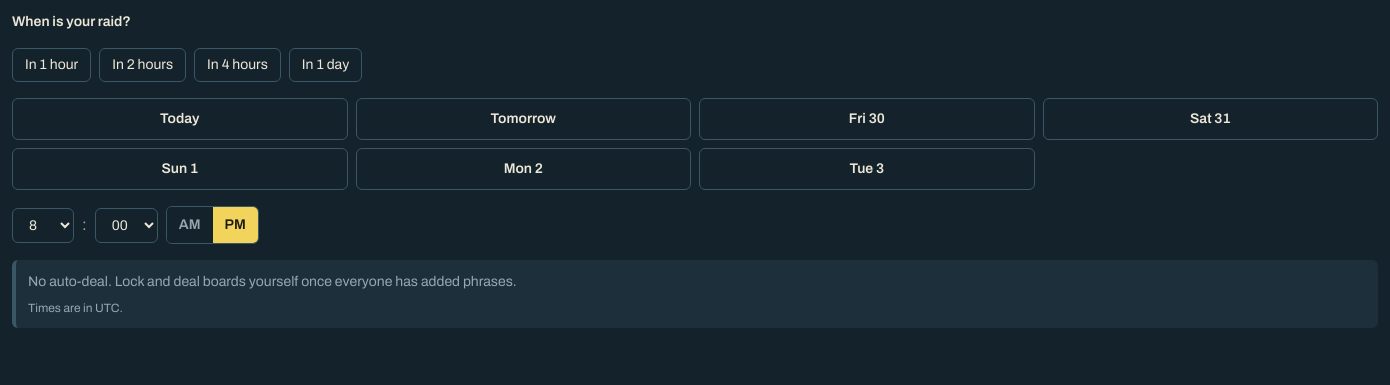
DateTimePicker › schedules a later day in the week from its chip
Step 1. Click the button "Sat 31" → (1210, 119), box [1042,98,1378,140]
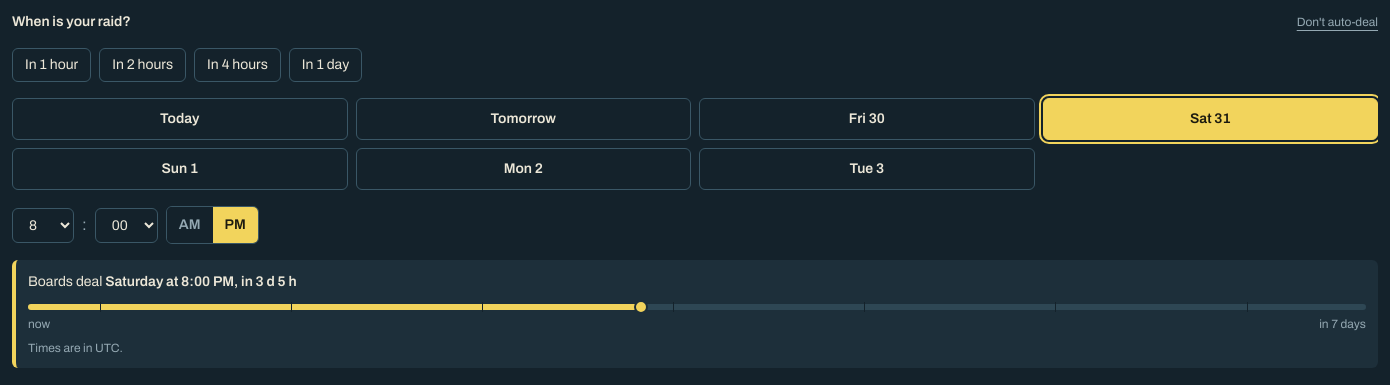
Expected: the text "Saturday at 8:00 PM, in 3 d 5 h" is shown, [105,274,297,289]
